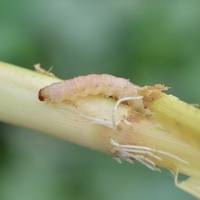insect: (38, 74, 199, 198)
